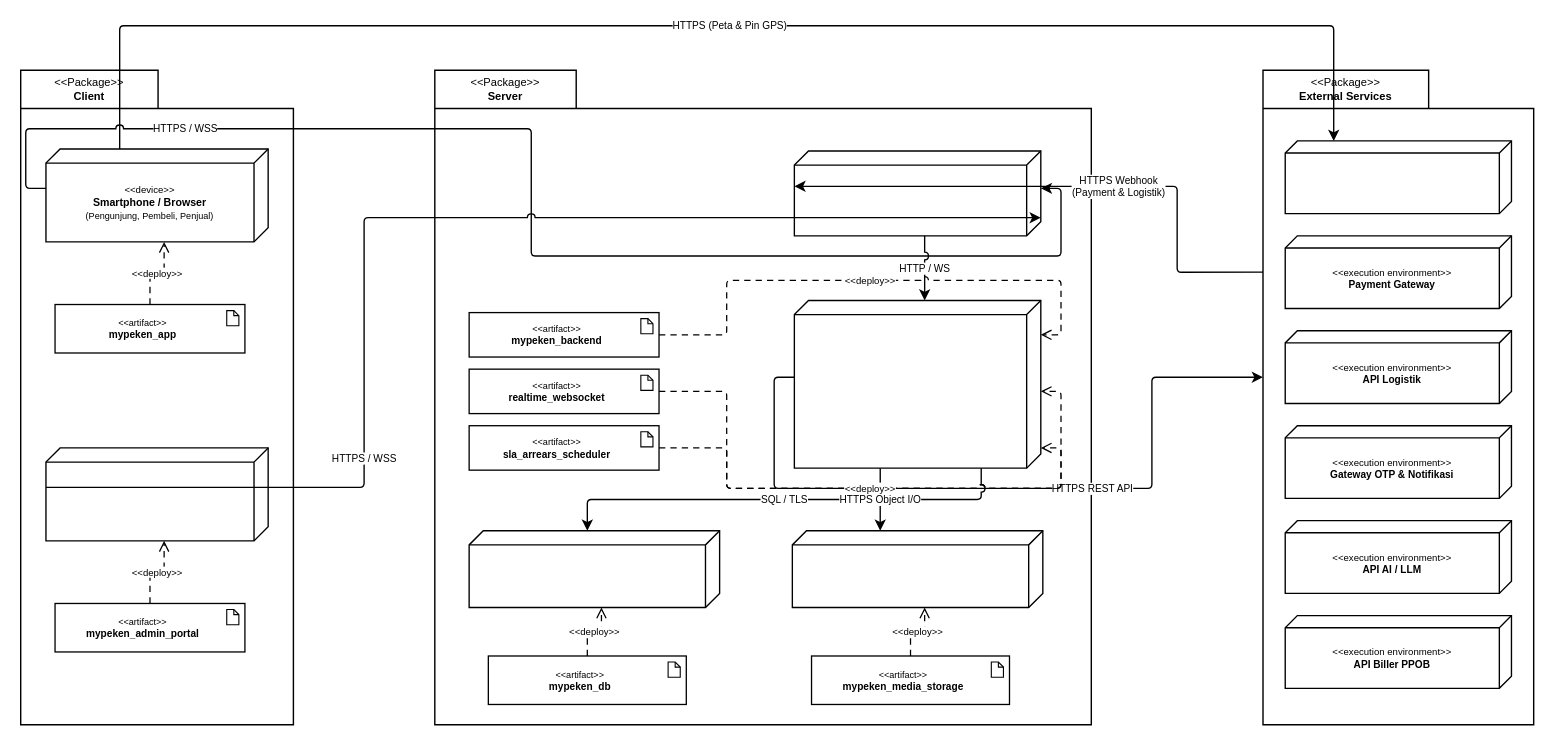
This 1552x743 diagram has some shape labels left out. Here are the shapes that lost their labels. From the top down, the centre of each, then its label:
At point (917, 193): "<<execution environment>> Reverse Proxy / API Gateway".
At point (1398, 177): "<<execution environment>> Maps API".
At point (917, 383): "<<execution environment>> Cloud Application Server".
At point (156, 494): "<<device>> PC / Laptop Admin (Admin CS, Ops/KYC, Super Admin)".
At point (594, 569): "<<execution environment>> Relational Database DBMS".
At point (917, 569): "<<execution environment>> Object Storage Server".
